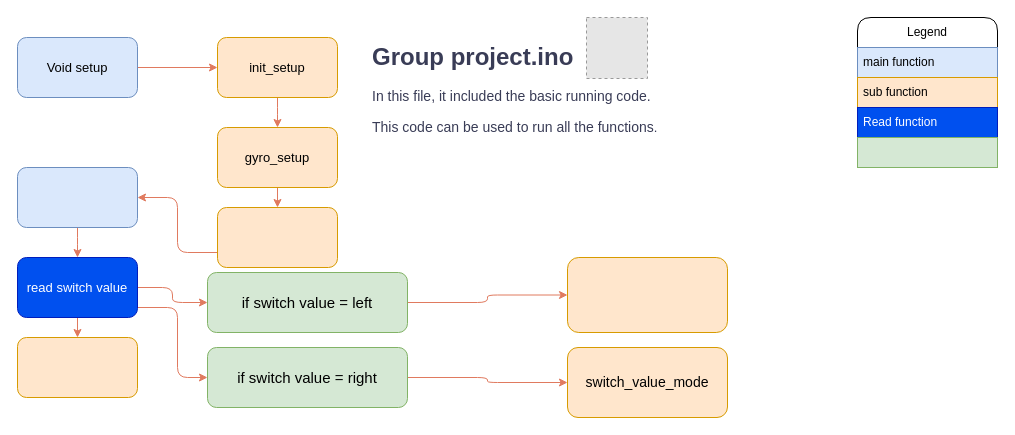
Some shapes in this 1015 by 435 pixel diagram are drawn without their labels. Grey dashed boxes stand in for pictures. The centre of each missing label's shape, as x and y in pixels:
"If function" goes at (x=927, y=152).
"selfcheck" goes at (x=277, y=237).
"switch_value_manual" goes at (x=647, y=294).
"transfer" goes at (x=77, y=367).
"Void loop" goes at (x=77, y=197).
